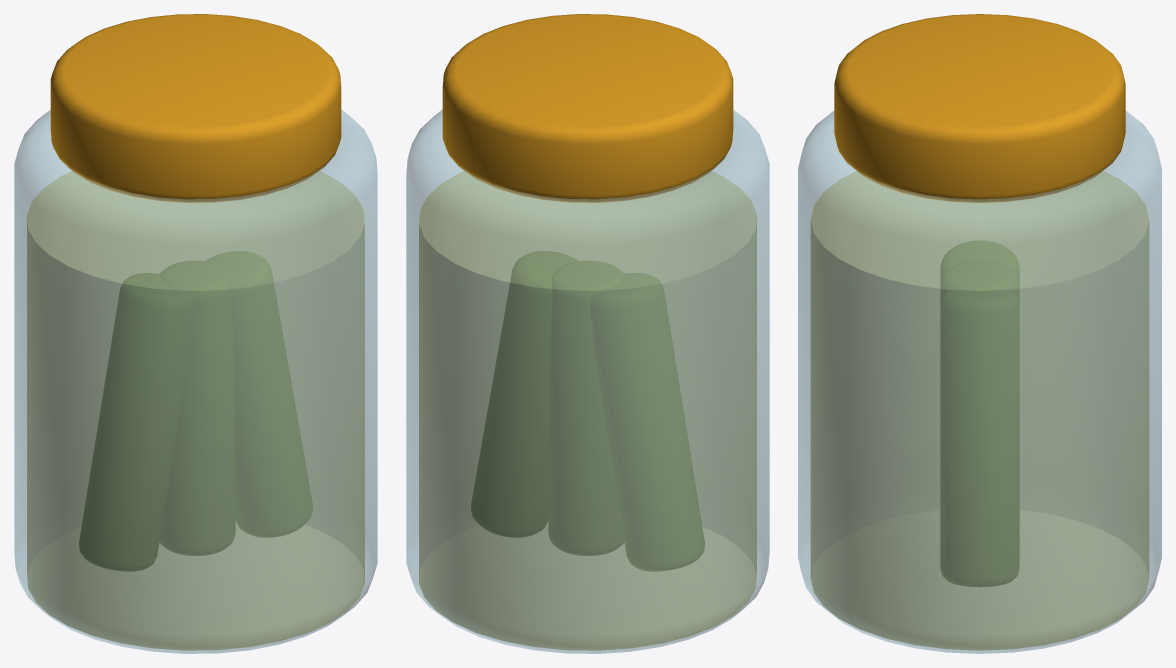
The model's file is brine_jar.glb.
The picture shows the model from 3 angles, left to right: view 1: azimuth 30°, elevation 25°; view 2: azimuth 150°, elevation 25°; view 3: azimuth 270°, elevation 25°; orthographic projection.
Visible parts, largest first — view 1: brine_jar; view 2: brine_jar; view 3: brine_jar.
Part boxes in pixels (left/top/right/bottom): brine_jar: left=14, top=14, right=377, bottom=653; brine_jar: left=406, top=14, right=769, bottom=653; brine_jar: left=798, top=14, right=1161, bottom=653.
Bounding box in the file's own units: 0.11 × 0.1725 × 0.11.
